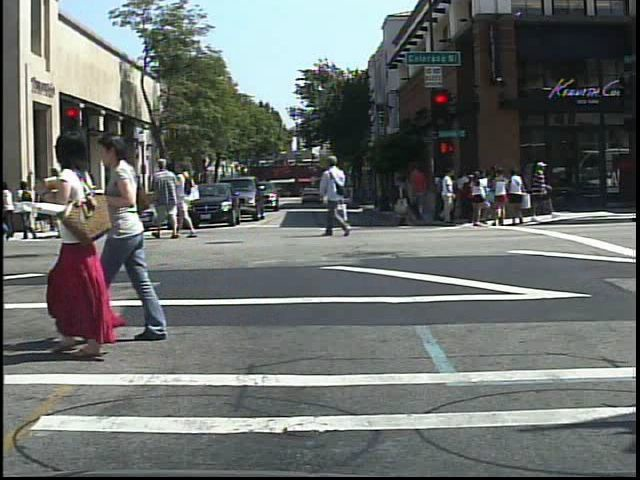person: (28, 128, 139, 363), (96, 127, 179, 343), (320, 150, 356, 243), (149, 155, 183, 241), (47, 167, 74, 245), (177, 161, 203, 242), (80, 168, 108, 242), (18, 175, 42, 244), (531, 158, 555, 221), (469, 171, 490, 231)
